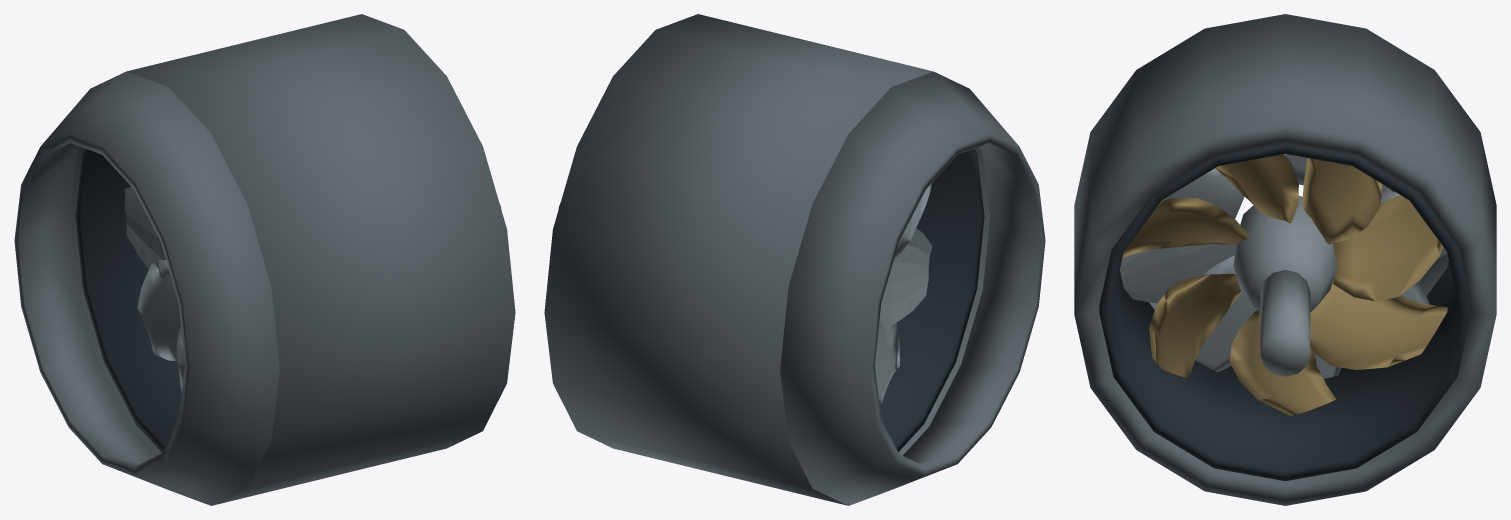
Rendered from UK_PJ_Astute_LOD2.fbx.
3 renders of one model, left to right at view 1: azimuth 30°, elevation 25°; view 2: azimuth 150°, elevation 25°; view 3: azimuth 270°, elevation 25°, orthographic. The views are drawn at different scales.
Parts seen in each view (by area): view 1: UK_PJ_Astute_LOD2_Housing.001, UK_PJ_Astute_LOD2_Nozzle.001, UK_PJ_Astute_LOD2_Lining.001, UK_PJ_Astute_LOD2_Stator_08.001, UK_PJ_Astute_LOD2_Stator_00.001; view 2: UK_PJ_Astute_LOD2_Housing.001, UK_PJ_Astute_LOD2_Nozzle.001, UK_PJ_Astute_LOD2_Lining.001, UK_PJ_Astute_LOD2_Stator_05.001, UK_PJ_Astute_LOD2_Stator_06.001, UK_PJ_Astute_LOD2_Stator_04.001; view 3: UK_PJ_Astute_LOD2_Housing.001, UK_PJ_Astute_LOD2_Lining.001, UK_PJ_Astute_LOD2_Rotor_06.001, UK_PJ_Astute_LOD2_Rotor_00.001, UK_PJ_Astute_LOD2_Hub.001, UK_PJ_Astute_LOD2_Rotor_04.001, UK_PJ_Astute_LOD2_Rotor_01.001, UK_PJ_Astute_LOD2_Shaft.001, UK_PJ_Astute_LOD2_Rotor_05.001, UK_PJ_Astute_LOD2_Rotor_03.001, UK_PJ_Astute_LOD2_Stator_05.001, UK_PJ_Astute_LOD2_Rotor_02.001 (+3 smaller).
Part boxes in pixels (<box>): UK_PJ_Astute_LOD2_Housing.001: <box>69,14,515,505</box>; UK_PJ_Astute_LOD2_Nozzle.001: <box>14,71,279,505</box>; UK_PJ_Astute_LOD2_Lining.001: <box>75,148,181,451</box>; UK_PJ_Astute_LOD2_Stator_08.001: <box>137,260,180,360</box>; UK_PJ_Astute_LOD2_Stator_00.001: <box>124,186,173,288</box>; UK_PJ_Astute_LOD2_Housing.001: <box>544,14,990,505</box>; UK_PJ_Astute_LOD2_Nozzle.001: <box>780,71,1045,505</box>; UK_PJ_Astute_LOD2_Lining.001: <box>879,148,984,451</box>; UK_PJ_Astute_LOD2_Stator_05.001: <box>879,228,932,324</box>; UK_PJ_Astute_LOD2_Stator_06.001: <box>875,292,899,404</box>; UK_PJ_Astute_LOD2_Stator_04.001: <box>894,181,933,258</box>; UK_PJ_Astute_LOD2_Housing.001: <box>1074,14,1496,505</box>; UK_PJ_Astute_LOD2_Lining.001: <box>1099,144,1471,481</box>; UK_PJ_Astute_LOD2_Rotor_06.001: <box>1310,280,1447,369</box>; UK_PJ_Astute_LOD2_Rotor_00.001: <box>1333,195,1443,301</box>; UK_PJ_Astute_LOD2_Hub.001: <box>1233,195,1337,312</box>; UK_PJ_Astute_LOD2_Rotor_04.001: <box>1149,274,1241,378</box>; UK_PJ_Astute_LOD2_Rotor_01.001: <box>1302,158,1382,244</box>; UK_PJ_Astute_LOD2_Shaft.001: <box>1260,270,1310,376</box>; UK_PJ_Astute_LOD2_Rotor_05.001: <box>1229,309,1336,415</box>; UK_PJ_Astute_LOD2_Rotor_03.001: <box>1122,198,1249,258</box>; UK_PJ_Astute_LOD2_Stator_05.001: <box>1120,244,1235,303</box>; UK_PJ_Astute_LOD2_Rotor_02.001: <box>1215,154,1298,223</box>.
Size of the model in its own units: 554 by 550 by 550.
